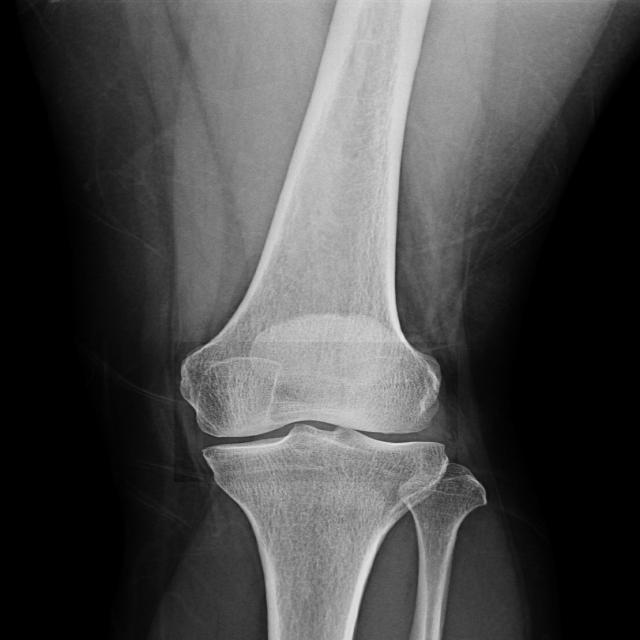osteo: (174, 342, 458, 482)
